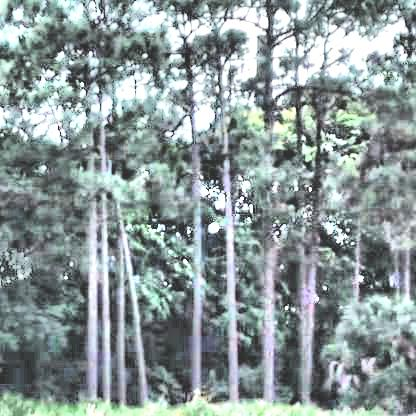golfball: (207, 220, 217, 230)
